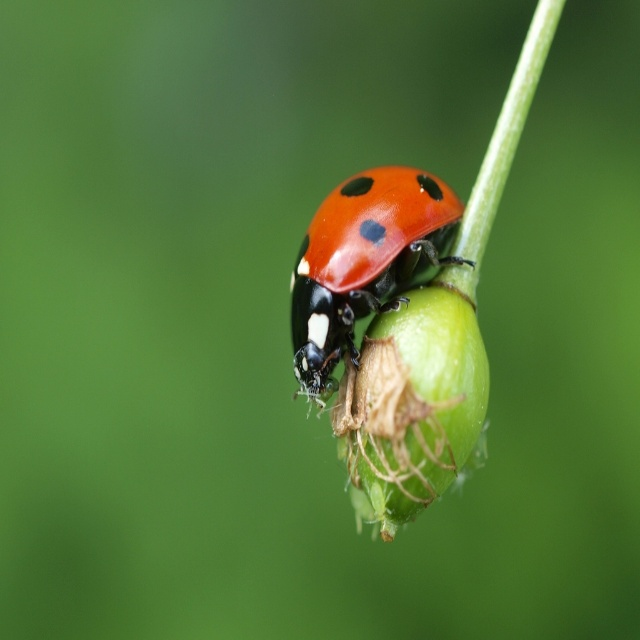Ladybug: (291, 164, 474, 418)
